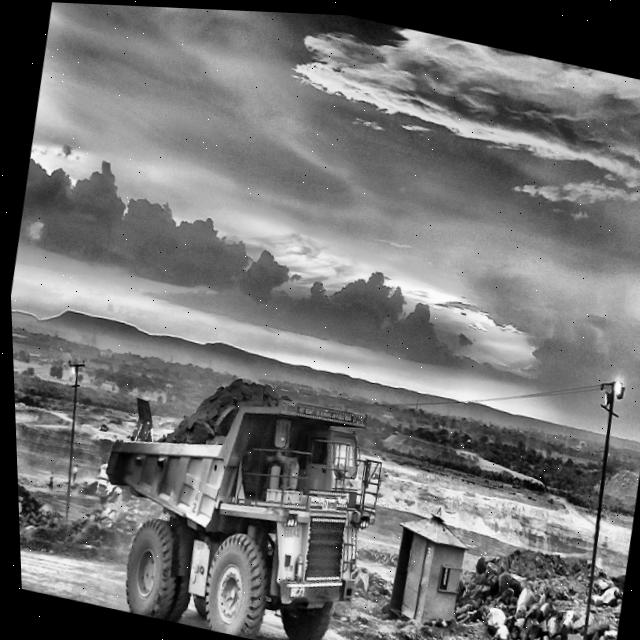dump_truck: (104, 391, 378, 640)
